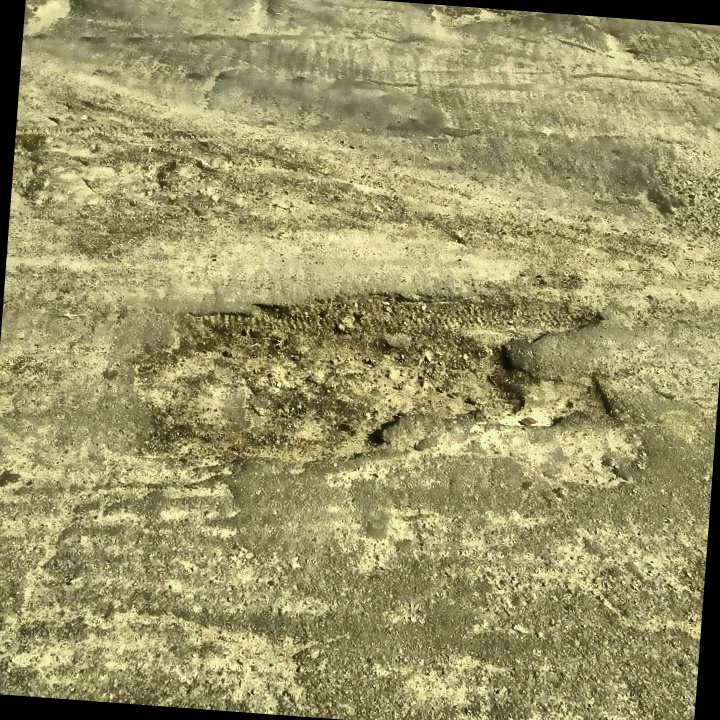pothole: (120, 256, 624, 499)
